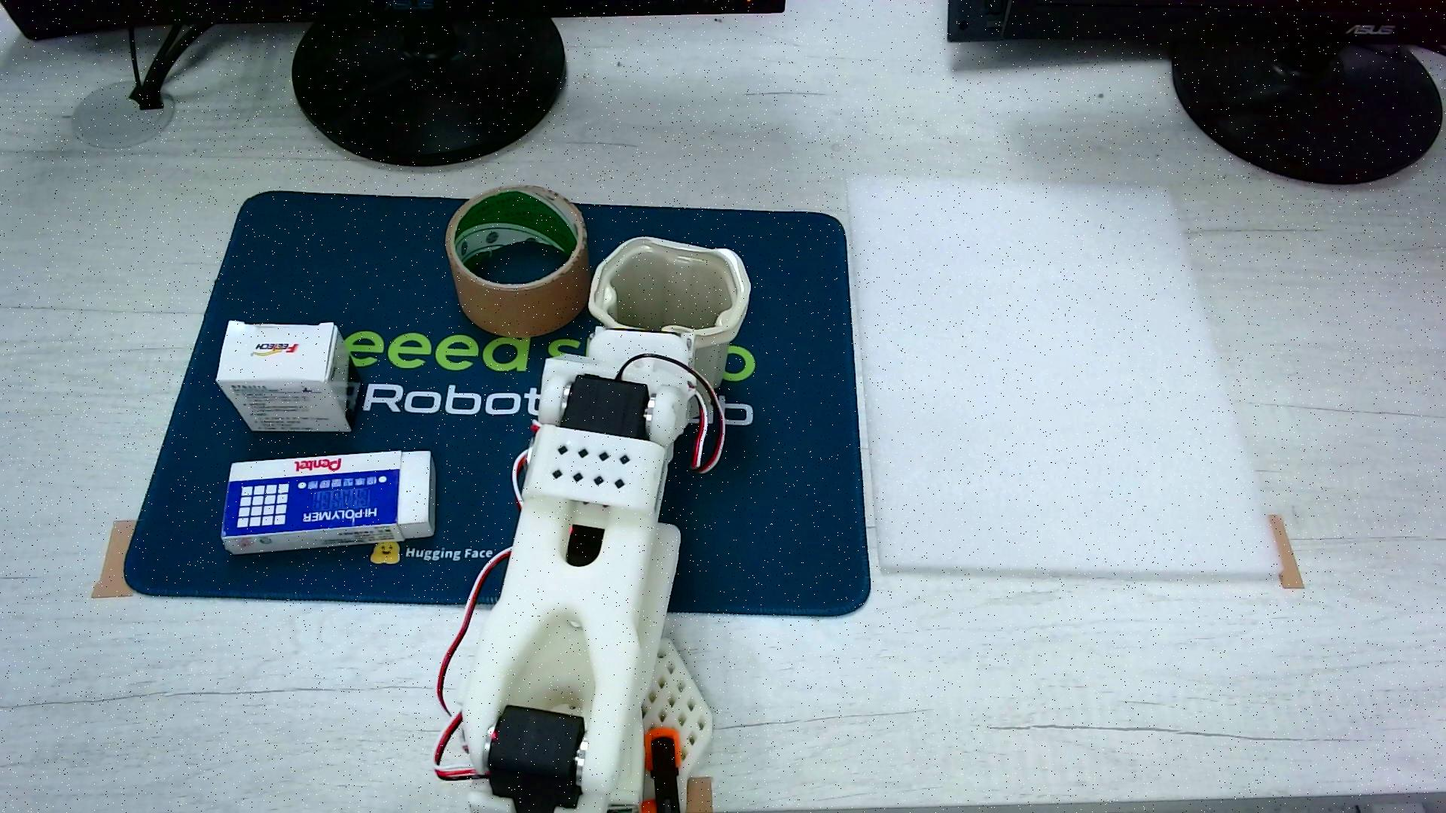eraser: (215, 321, 355, 431)
